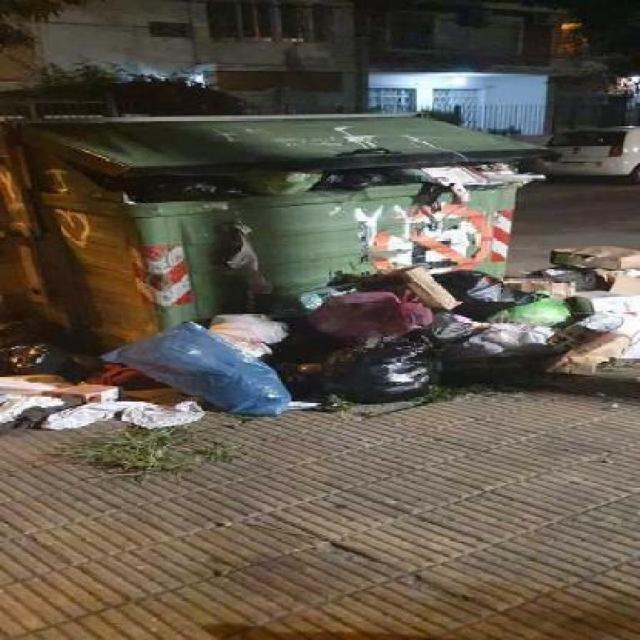garbage: (239, 254, 639, 415), (0, 328, 284, 420)
